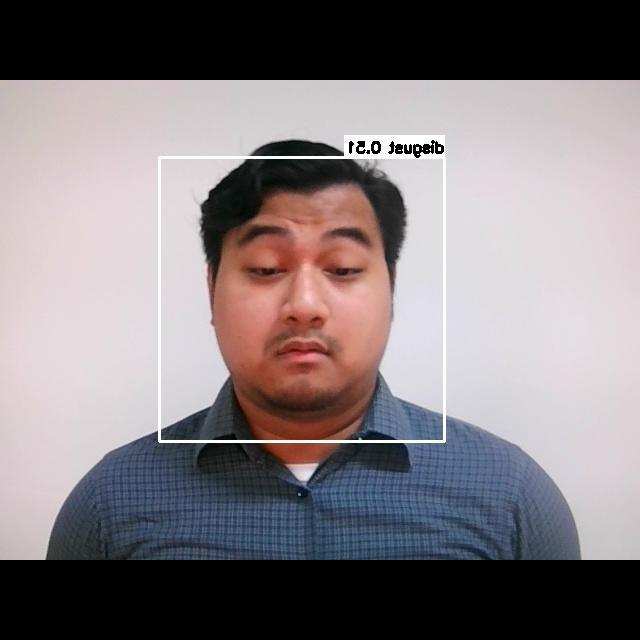Fear: (218, 203, 389, 389)
